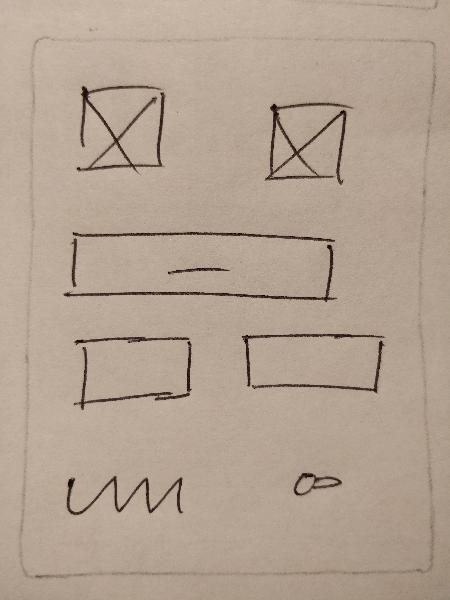button: (60, 223, 338, 306)
image: (70, 77, 170, 180), (259, 93, 353, 193)
switch: (276, 457, 355, 504)
text: (54, 468, 194, 526)
text_input: (229, 324, 391, 401), (62, 330, 200, 417)
